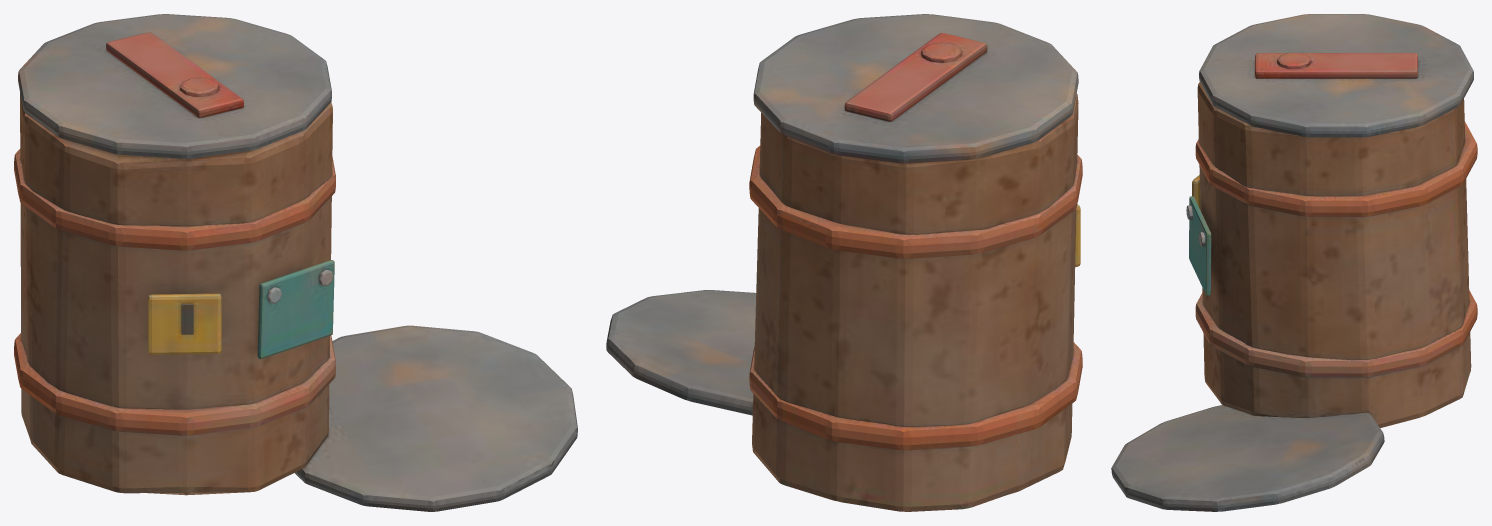
The model's file is source_rusted_drum.glb.
The picture shows the model from 3 angles, left to right: view 1: azimuth 30°, elevation 25°; view 2: azimuth 150°, elevation 25°; view 3: azimuth 270°, elevation 25°; orthographic projection. The views are drawn at different scales.
Parts seen in each view (by area): view 1: RustedDrum_Mesh, Open_Mesh, Closed_Mesh; view 2: RustedDrum_Mesh, Closed_Mesh, Open_Mesh; view 3: RustedDrum_Mesh, Closed_Mesh, Open_Mesh.
Part boxes in pixels (bbox=[...]): RustedDrum_Mesh: bbox=[14, 93, 335, 495]; Open_Mesh: bbox=[295, 325, 577, 511]; Closed_Mesh: bbox=[18, 14, 331, 158]; RustedDrum_Mesh: bbox=[749, 93, 1082, 511]; Closed_Mesh: bbox=[753, 14, 1078, 163]; Open_Mesh: bbox=[606, 290, 756, 415]; RustedDrum_Mesh: bbox=[1186, 82, 1477, 427]; Closed_Mesh: bbox=[1199, 14, 1473, 137]; Open_Mesh: bbox=[1111, 405, 1384, 511].
Bounding box in the file's own units: 1.32 × 1.06 × 1.03.
3 materials, 3 textured.
